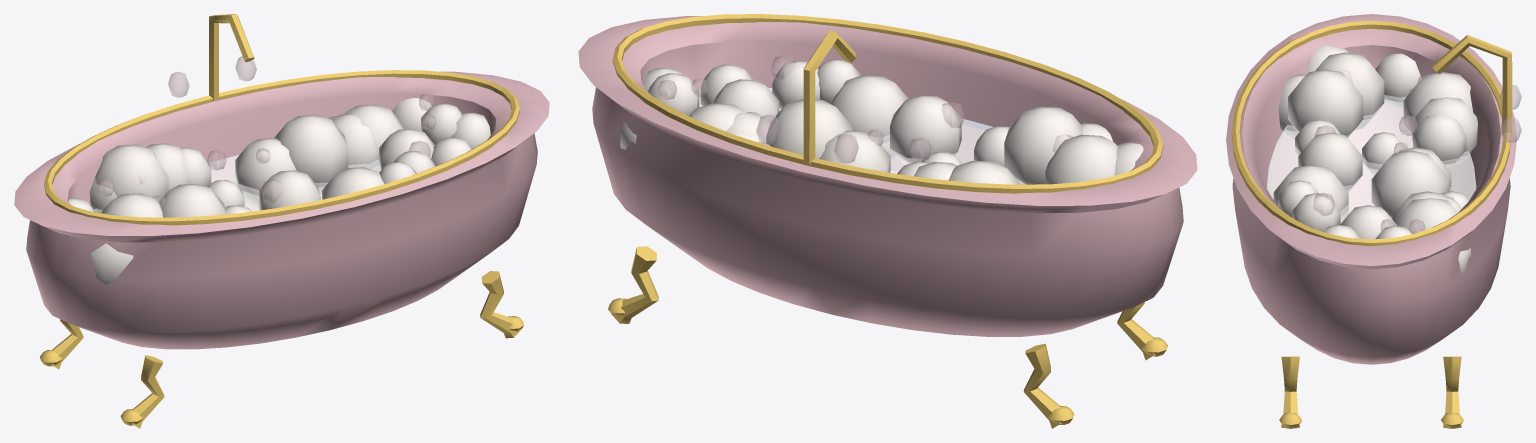
The model's file is clawfoot_tub.glb.
The picture shows the model from 3 angles, left to right: view 1: azimuth 30°, elevation 25°; view 2: azimuth 150°, elevation 25°; view 3: azimuth 270°, elevation 25°; orthographic projection. The views are drawn at different scales.
Visible parts, largest first — view 1: clawfoot_tub; view 2: clawfoot_tub; view 3: clawfoot_tub.
Boxes of the visible parts, x1,y1,x2,y2 form: clawfoot_tub: [14, 14, 549, 428]; clawfoot_tub: [578, 14, 1197, 428]; clawfoot_tub: [1226, 14, 1521, 428].
Bounding box in the file's own units: 1.84 × 1.04 × 0.915.
